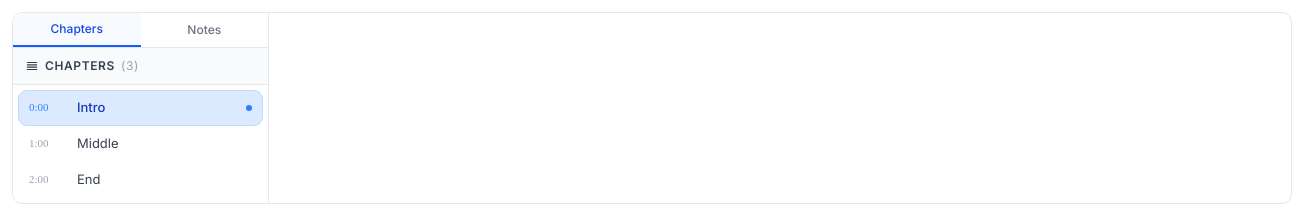
VideoSidebar — tabs (both chapters and notes) › shows "Notes require a saved lesson" when notes tab is selected without a lessonId
Click the button "Notes": coordinates (204, 30) [140,13,268,47]
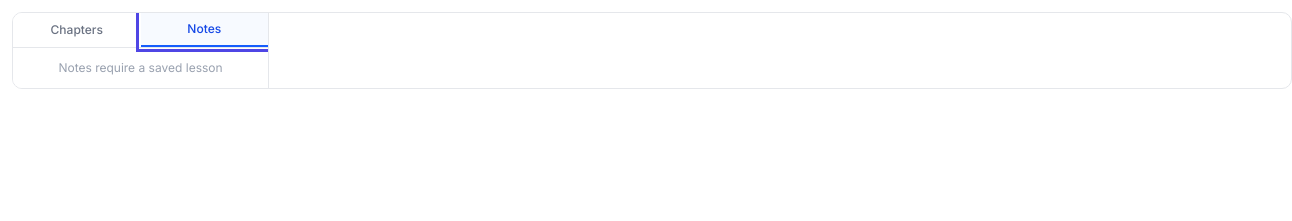
Expected: the text "Notes require a saved lesson" is shown, [58,60,223,75]
